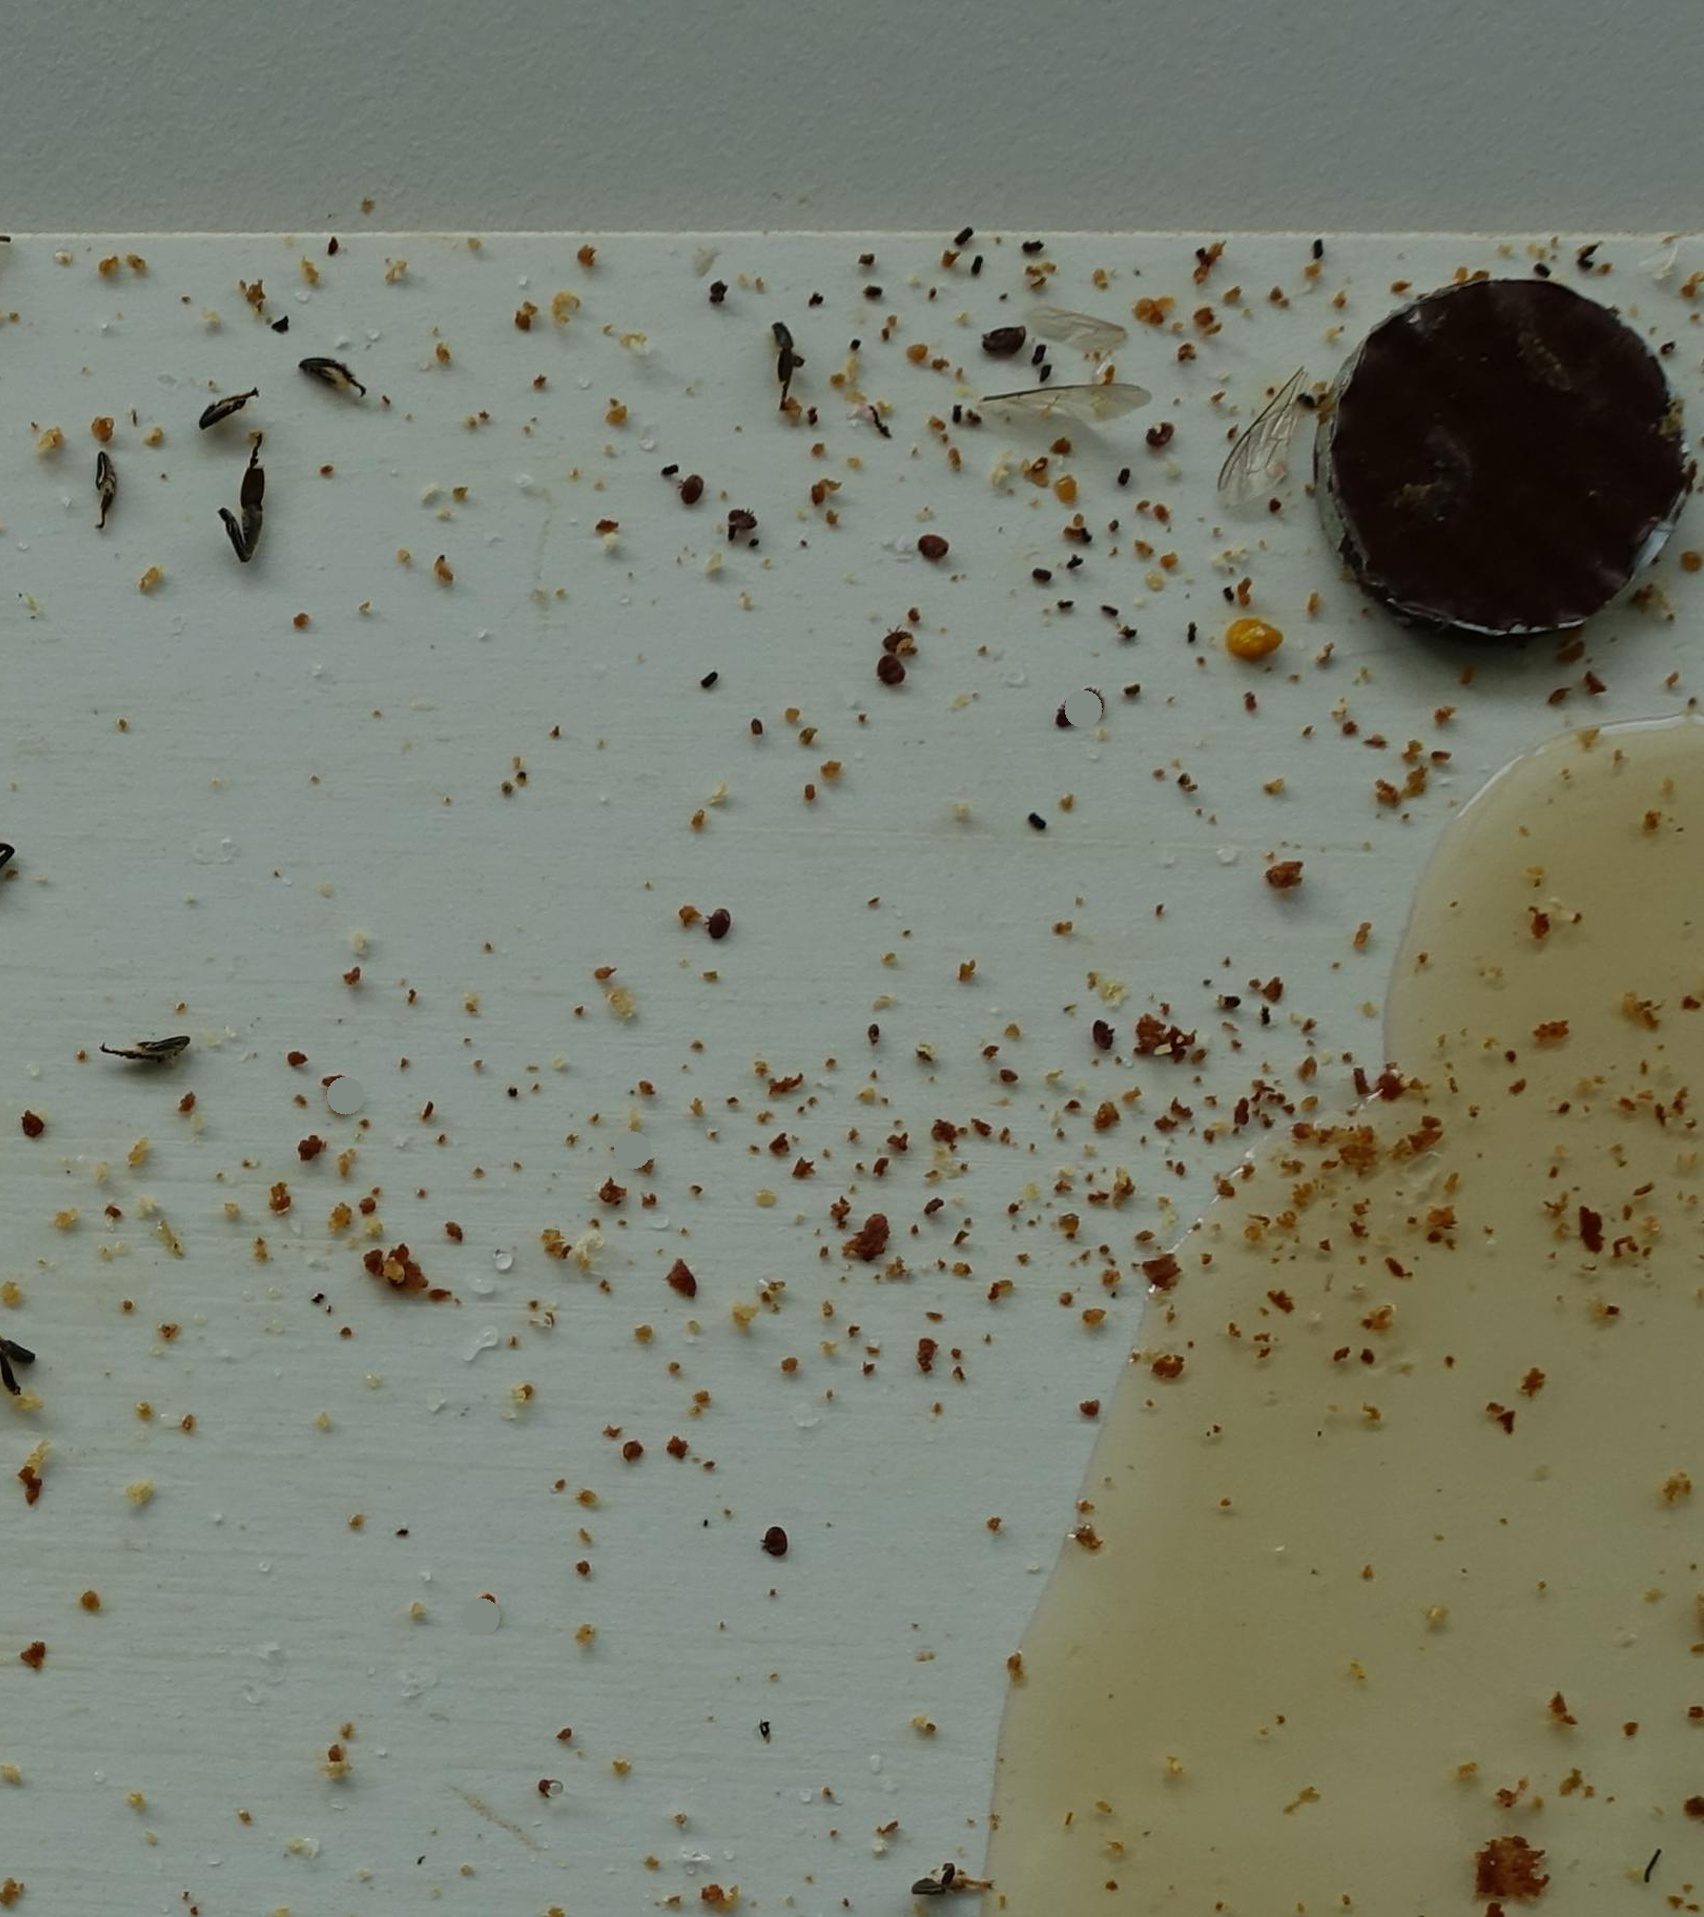Varroa: (877, 620, 918, 659), (1076, 681, 1117, 720), (1048, 692, 1087, 732), (878, 638, 906, 666), (730, 506, 757, 533), (1146, 424, 1174, 447), (990, 329, 1018, 352), (923, 534, 947, 557), (765, 1529, 788, 1554), (1090, 1018, 1112, 1044), (683, 477, 706, 500), (709, 909, 730, 932), (887, 667, 898, 681)
